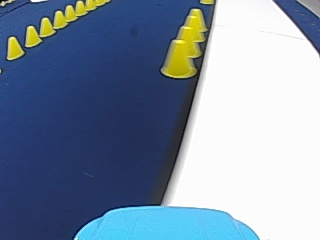cone: (159, 35, 197, 78), (178, 9, 206, 50), (176, 24, 201, 57), (5, 35, 24, 59), (24, 25, 41, 46), (39, 16, 54, 36), (53, 10, 66, 28), (64, 4, 75, 21), (74, 0, 85, 15)
